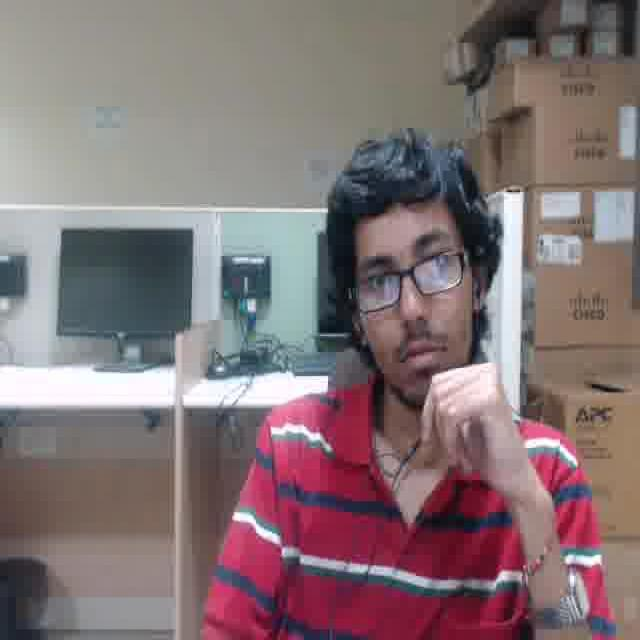Confusion: (354, 200, 472, 397)
